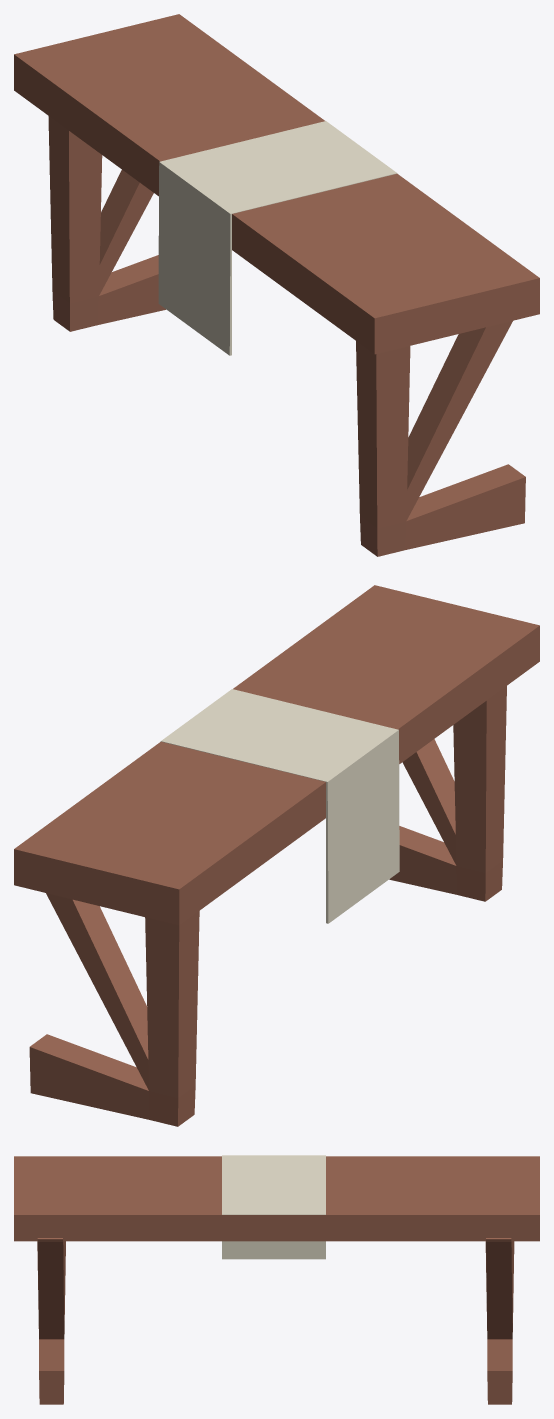
The model's file is table_long.fbx.
3 views of the same model, one above another, from view 1: azimuth 30°, elevation 25°; view 2: azimuth 150°, elevation 25°; view 3: azimuth 270°, elevation 25° (orthographic). The views are drawn at different scales.
Visible parts, largest first — view 1: Cube.020; view 2: Cube.020; view 3: Cube.020.
Boxes of the visible parts, box(x1,y1,x2,y2) form: Cube.020: box(14, 14, 539, 556); Cube.020: box(14, 585, 539, 1126); Cube.020: box(14, 1155, 539, 1404).
Bounding box in the file's own units: 221 × 321 × 810.
